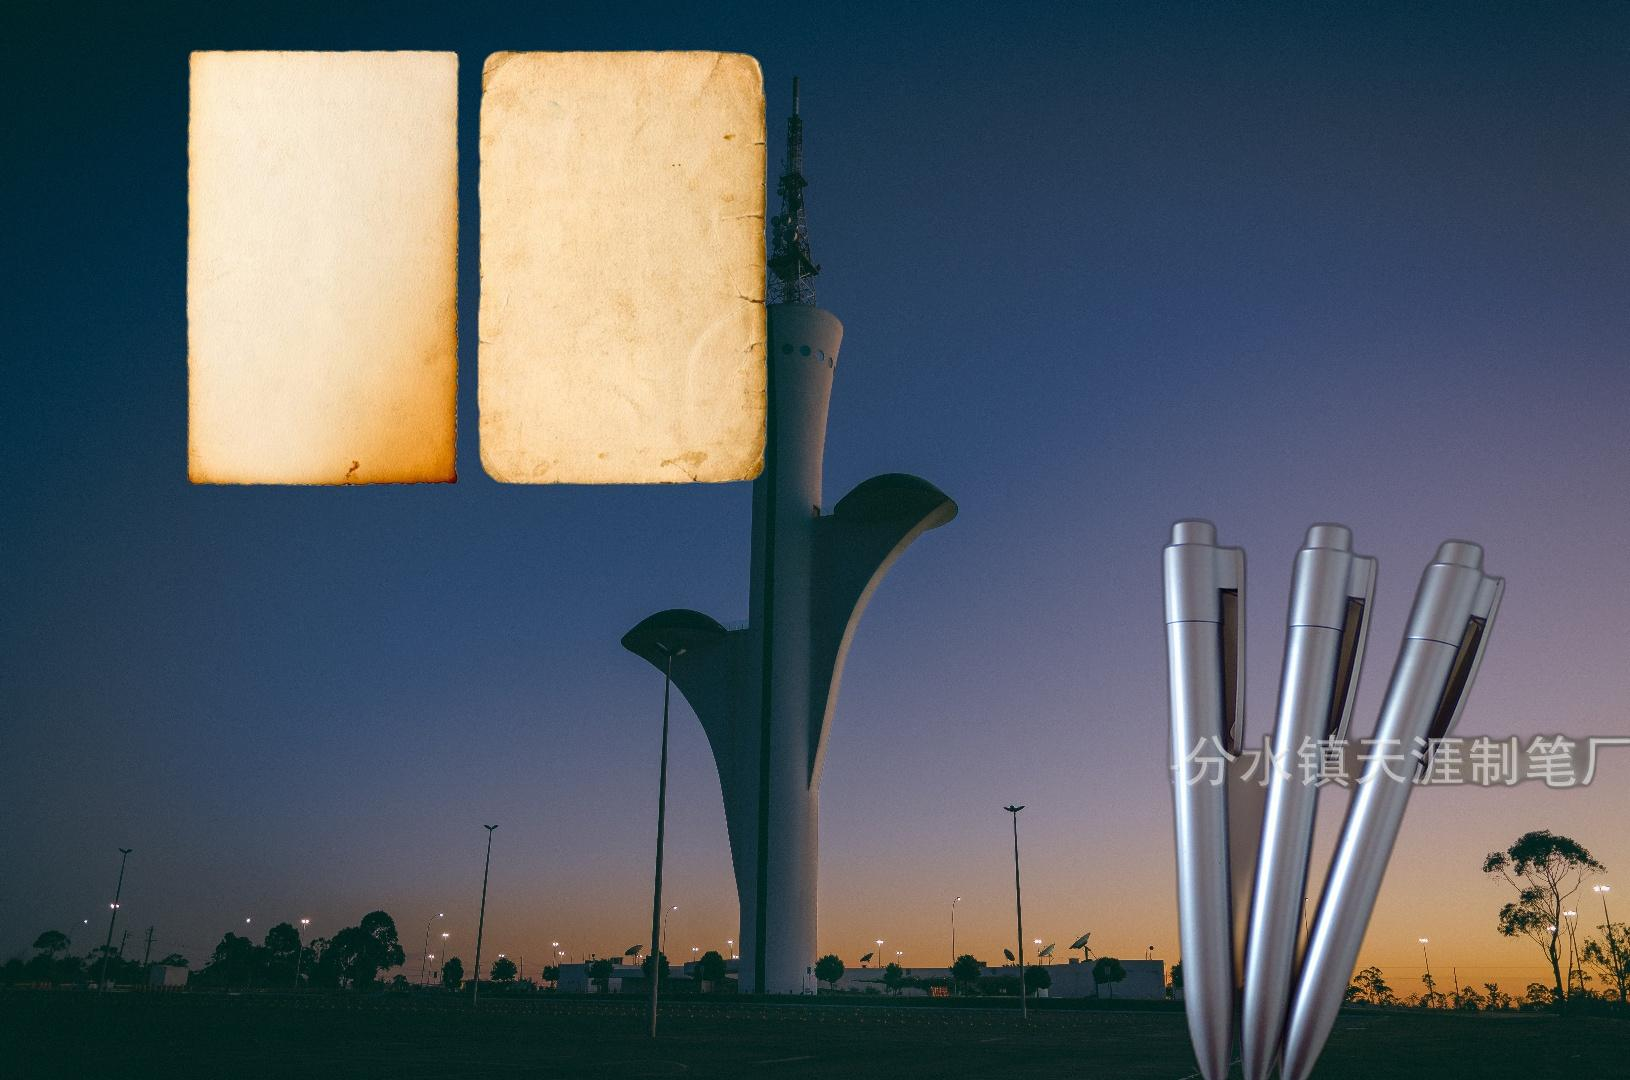penholder: (1155, 513, 1630, 1080)
trashbox-cardboard: (180, 45, 787, 512)
